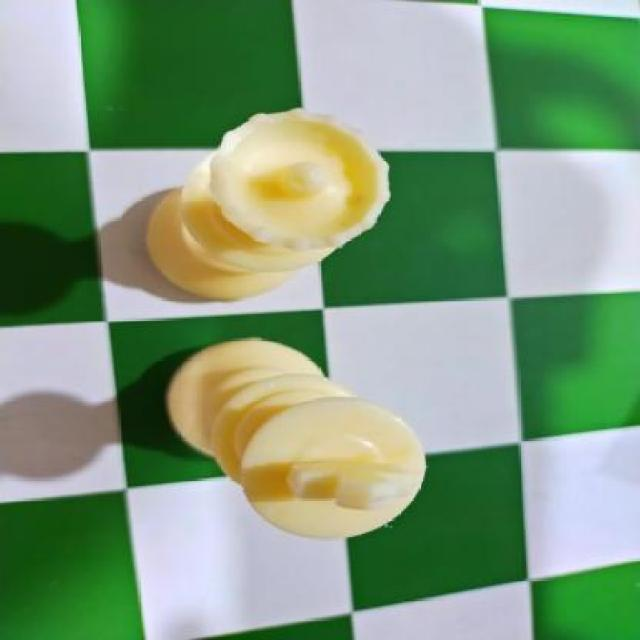white-king: (165, 334, 427, 538)
white-queen: (147, 109, 393, 301)
